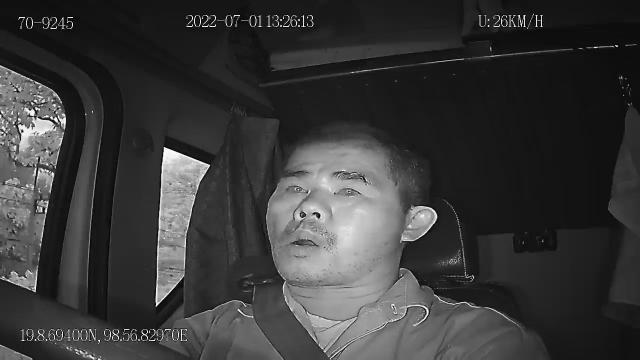SafeDriving: (326, 176, 368, 204), (278, 174, 314, 203)
Seatbelt: (250, 278, 334, 360)
